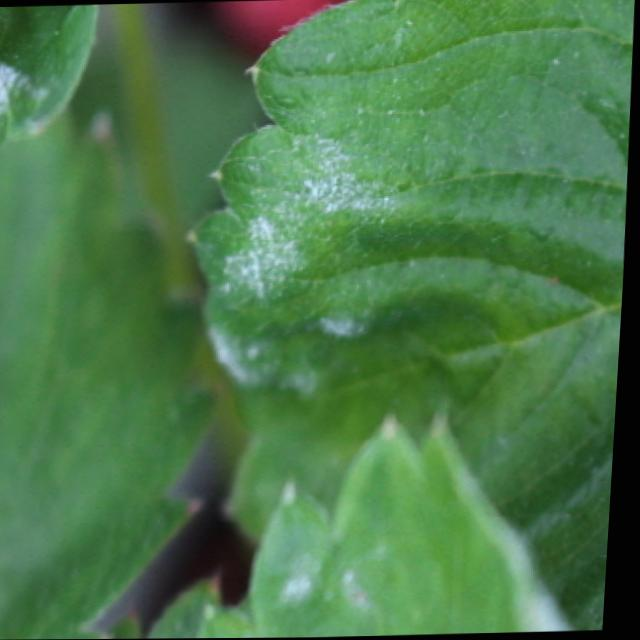Powdery Mildew Leaf: (186, 0, 634, 631), (200, 398, 585, 639), (0, 3, 100, 155)
